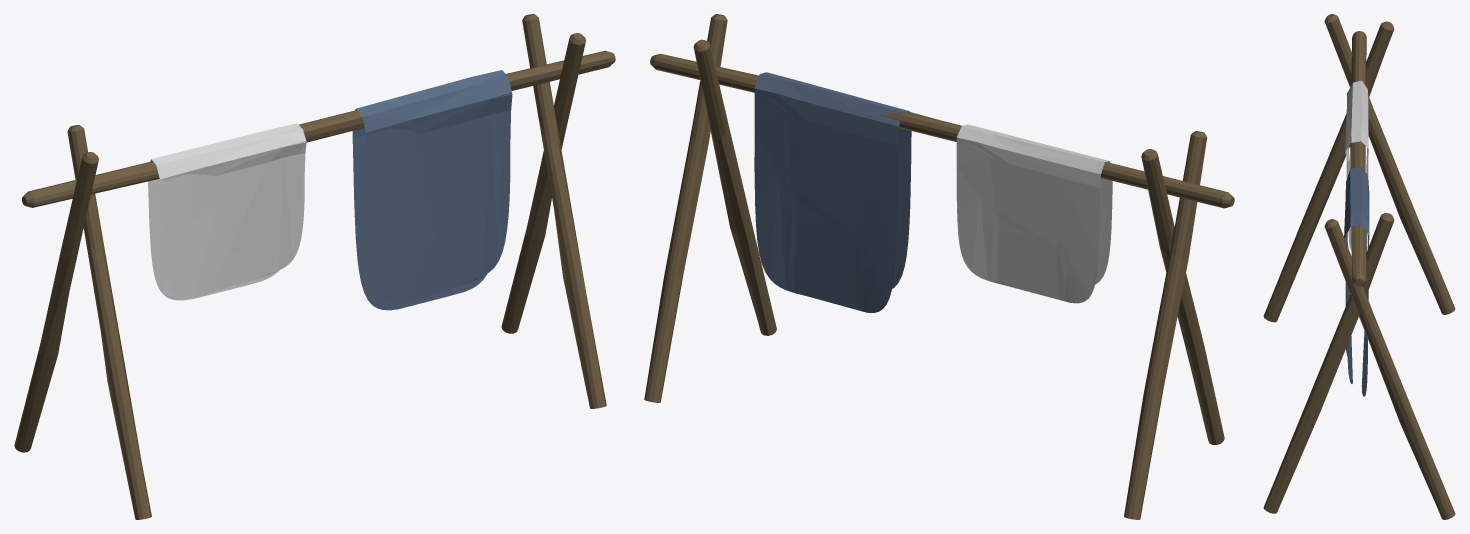
Rendered from greek_drying_rack.fbx.
3 views of the same model, side by side, from view 1: azimuth 30°, elevation 25°; view 2: azimuth 150°, elevation 25°; view 3: azimuth 270°, elevation 25° (orthographic). The views are drawn at different scales.
Parts seen in each view (by area): view 1: Plane.004, Cylinder.006, Plane.006; view 2: Plane.004, Cylinder.006, Plane.006; view 3: Cylinder.006, Plane.004, Plane.006.
Part boxes in pixels (x1,y1,x2,y2): Plane.004: (352, 70, 512, 310); Cylinder.006: (14, 14, 615, 519); Plane.006: (148, 123, 306, 300); Plane.004: (754, 72, 911, 312); Cylinder.006: (644, 14, 1234, 519); Plane.006: (956, 124, 1112, 303); Cylinder.006: (1263, 14, 1455, 519); Plane.004: (1344, 166, 1369, 396); Plane.006: (1345, 80, 1368, 250).
Bounding box in the file's own units: 200 × 112 × 65.49.
